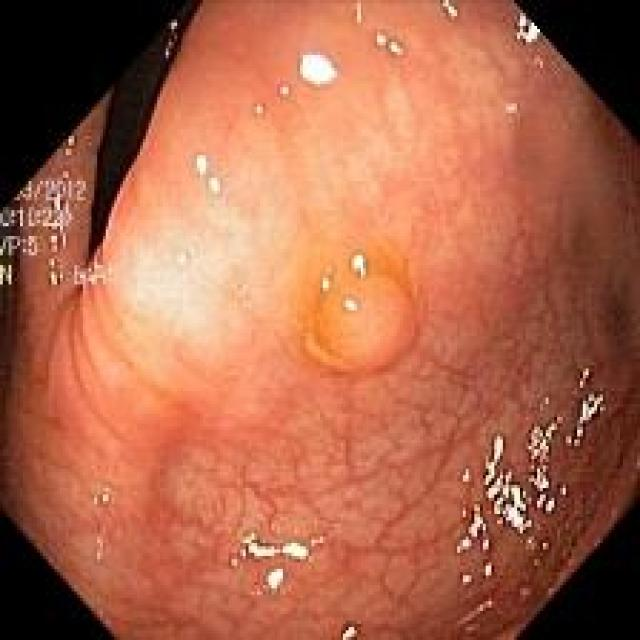Polyps: (296, 243, 416, 373)
